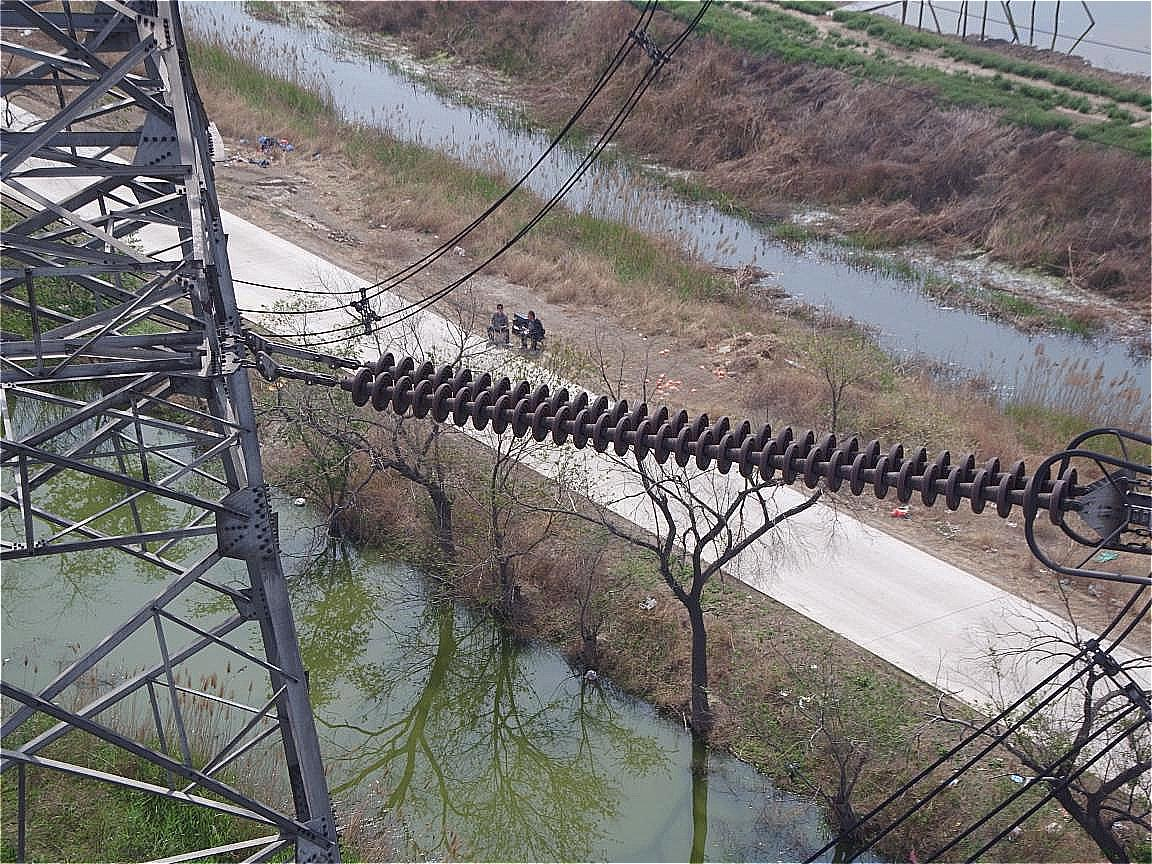insultor1: (287, 342, 1097, 509)
